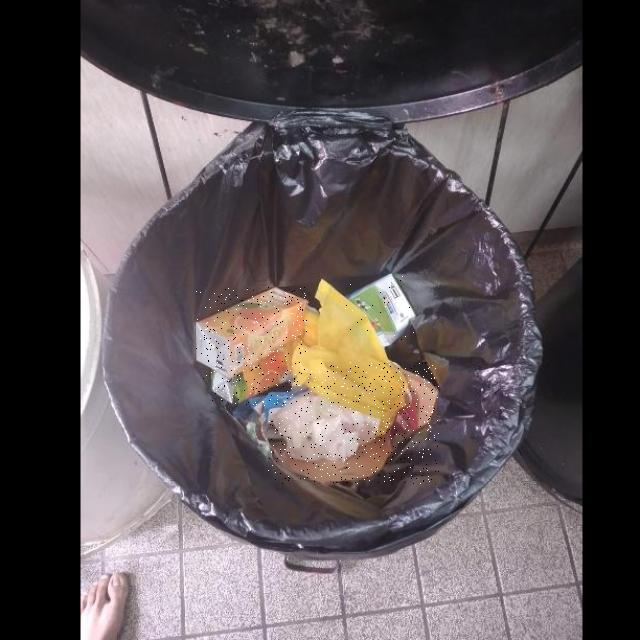paper: (268, 363, 439, 484), (196, 288, 307, 379), (273, 391, 381, 463), (344, 274, 416, 348), (212, 352, 292, 406)
